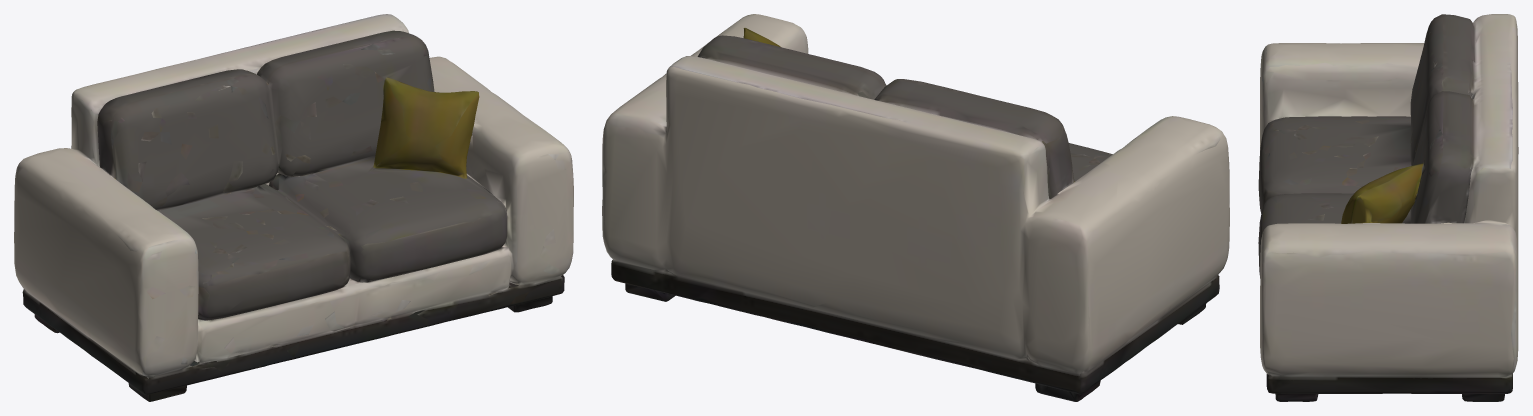
File: sofa.glb
The picture shows the model from 3 angles, left to right: view 1: azimuth 30°, elevation 25°; view 2: azimuth 150°, elevation 25°; view 3: azimuth 270°, elevation 25°; orthographic projection. The views are drawn at different scales.
Parts seen in each view (by area): view 1: geometry_0; view 2: geometry_0; view 3: geometry_0.
Boxes of the visible parts, <box> form: geometry_0: <box>14,14,573,401</box>; geometry_0: <box>602,14,1229,401</box>; geometry_0: <box>1258,14,1518,401</box>.
Size of the model in its own units: 1 by 0.4898 by 0.5195.
Materials: 1 (1 with a texture image).
